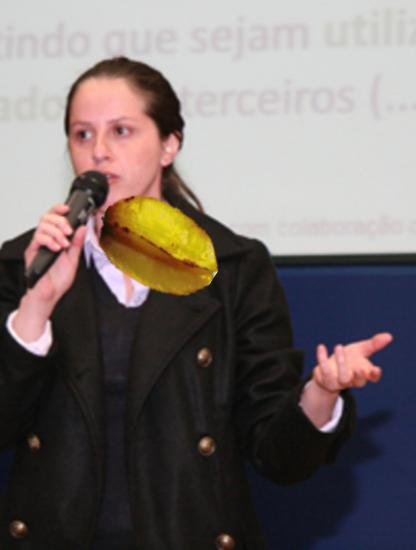Carambula: (95, 182, 223, 310)
